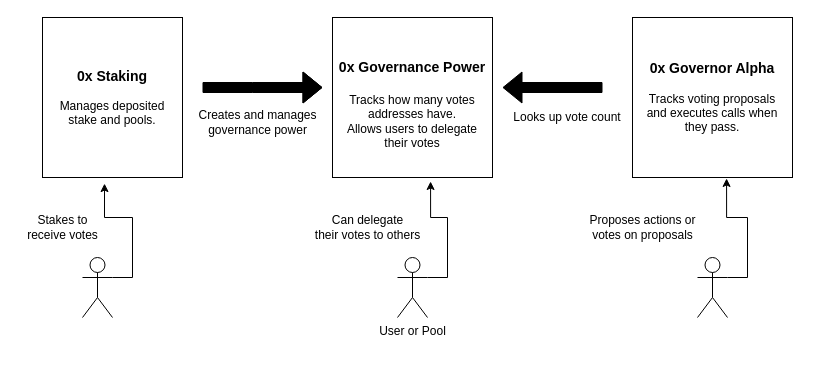
The diagram is 823 pixels wide and 371 high, and some of its shapes have lost their labels. The shapes that lost their labels are listed below. From the top down, each one's centre as x and y in pixels, then its label:
At point (97, 287): "User".
At point (712, 287): "User, Pool, or Community Delegate".
